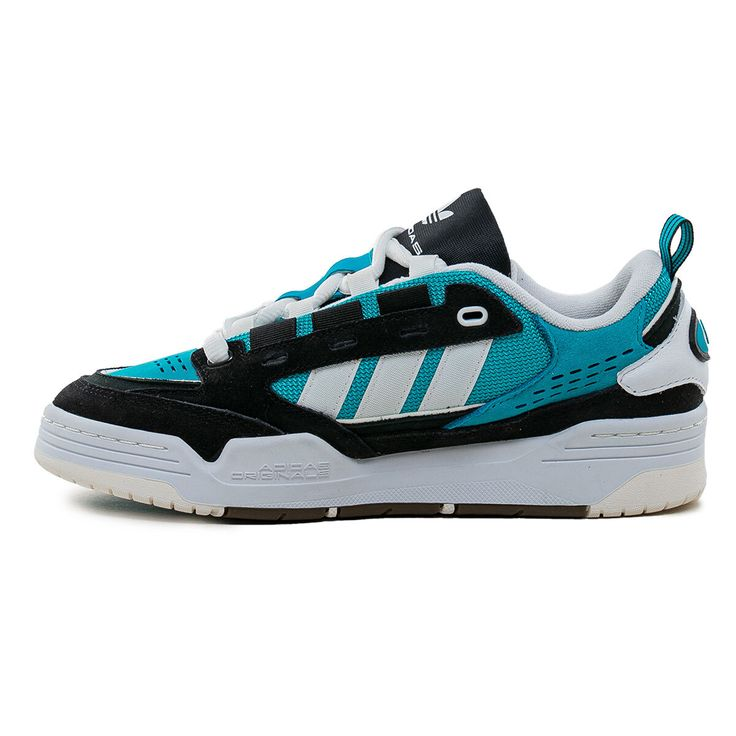gamuza: (51, 281, 708, 458)
